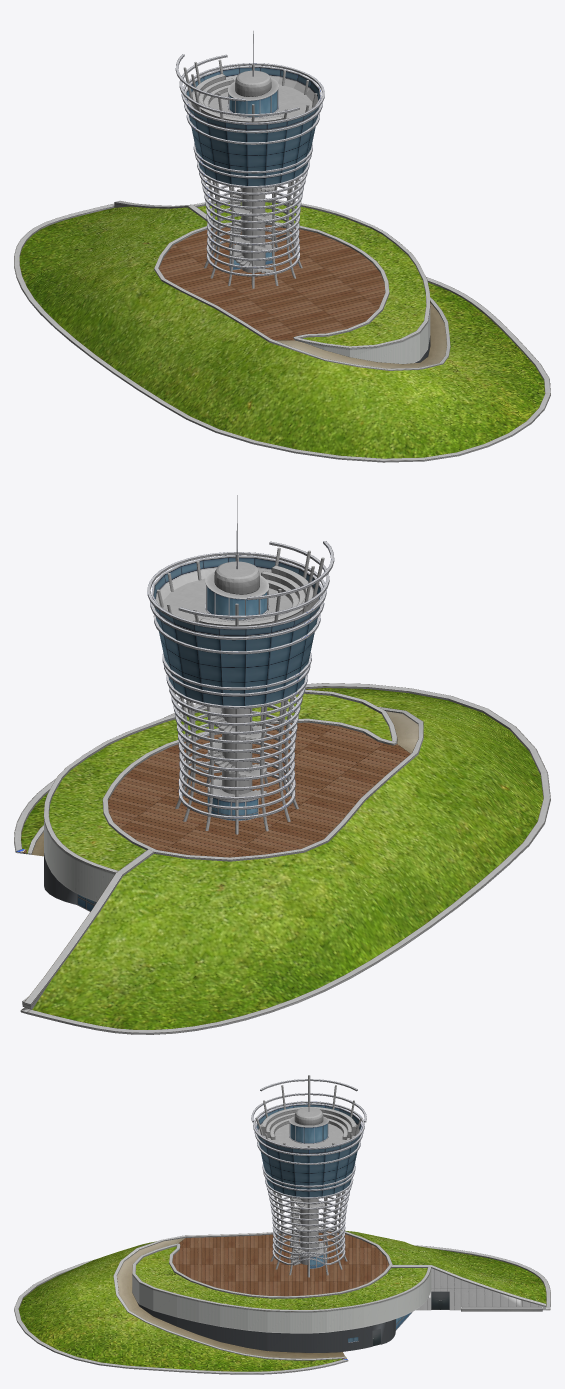
3 renders of one model, top to bottom at view 1: azimuth 30°, elevation 25°; view 2: azimuth 150°, elevation 25°; view 3: azimuth 270°, elevation 25°, orthographic. The views are drawn at different scales.
Parts seen in each view (by area): view 1: MainBuilding; view 2: MainBuilding; view 3: MainBuilding.
Boxes of the visible parts, x1,y1,x2,y2 form: MainBuilding: (14,31,550,462); MainBuilding: (14,495,550,1034); MainBuilding: (14,1075,550,1374).
Size of the model in its own units: 4.81 by 4.09 by 8.29.
Materials: 1 (1 with a texture image).
